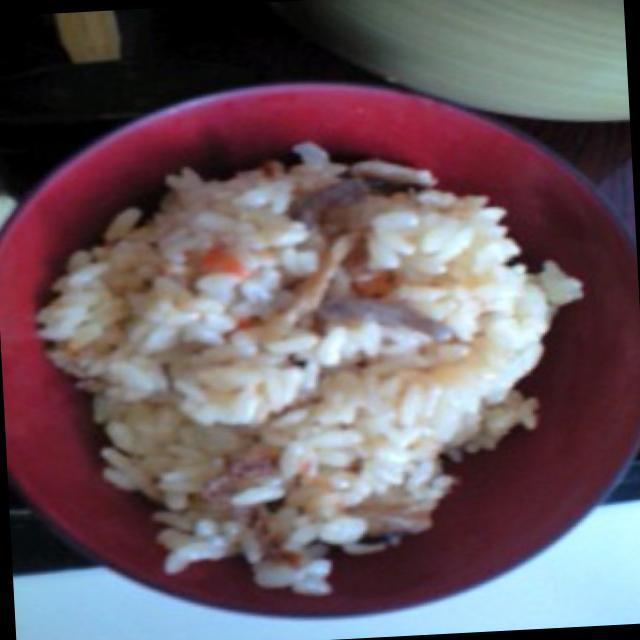Rice: (59, 152, 589, 614)
